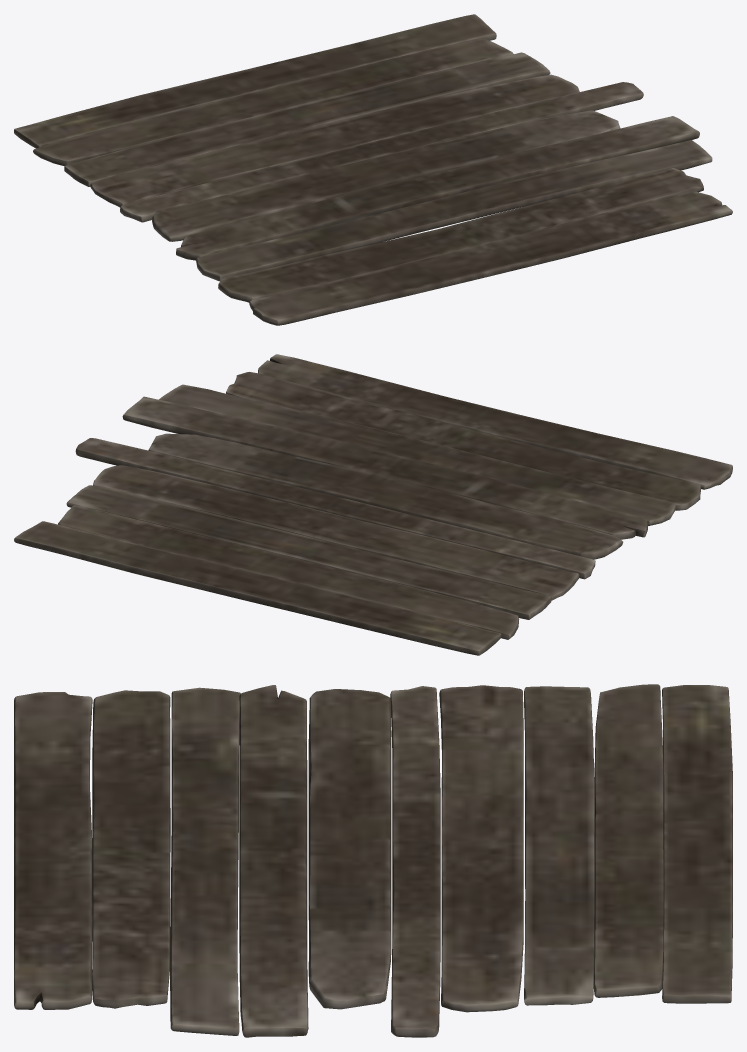
The model's file is modular-wooden-pier.glb.
The picture shows the model from 3 angles, top to bottom: view 1: azimuth 30°, elevation 25°; view 2: azimuth 150°, elevation 25°; view 3: azimuth 270°, elevation 25°; orthographic projection. The views are drawn at different scales.
Visible parts, largest first — view 1: modular_wooden_pier_planks; view 2: modular_wooden_pier_planks; view 3: modular_wooden_pier_planks.
Part boxes in pixels (bbox=[...]): modular_wooden_pier_planks: bbox=[14, 14, 732, 325]; modular_wooden_pier_planks: bbox=[14, 354, 732, 655]; modular_wooden_pier_planks: bbox=[14, 684, 732, 1037].
Size of the model in its own units: 2.52 by 0.0798 by 2.2.
Materials: 1 (1 with a texture image).
